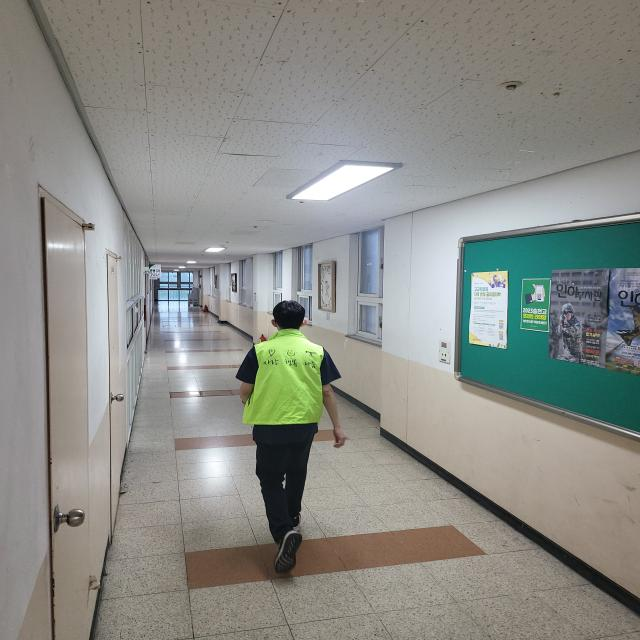weston_spy: (235, 325, 350, 442)
